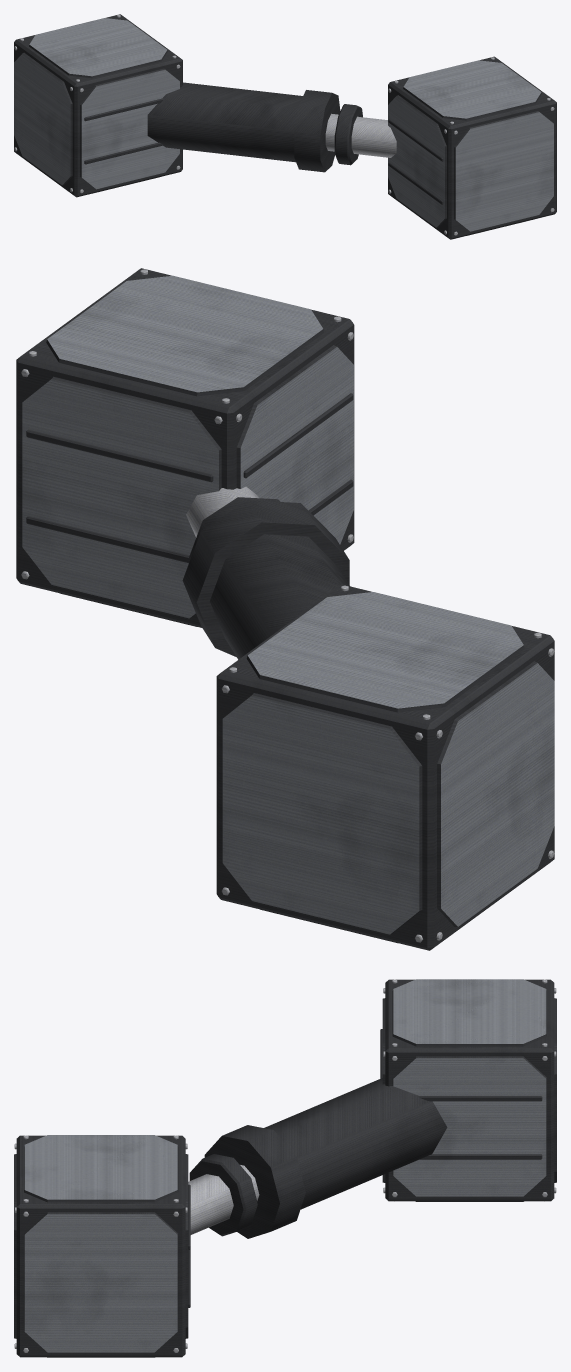
Rendered from R4C_STRUT_DIAG_2D.glb.
3 views of the same model, one above another, from view 1: azimuth 30°, elevation 25°; view 2: azimuth 150°, elevation 25°; view 3: azimuth 270°, elevation 25° (orthographic). The views are drawn at different scales.
Visible parts, largest first — view 1: R4C_STRUT_DIAG_2D; view 2: R4C_STRUT_DIAG_2D; view 3: R4C_STRUT_DIAG_2D.
Part boxes in pixels (box(x1,y1,x2,y2)): R4C_STRUT_DIAG_2D: box(14, 14, 556, 239); R4C_STRUT_DIAG_2D: box(16, 268, 554, 950); R4C_STRUT_DIAG_2D: box(14, 979, 556, 1357).
Size of the model in its own units: 1.62 by 0.52 by 1.62.
Materials: 4 (4 with a texture image).
